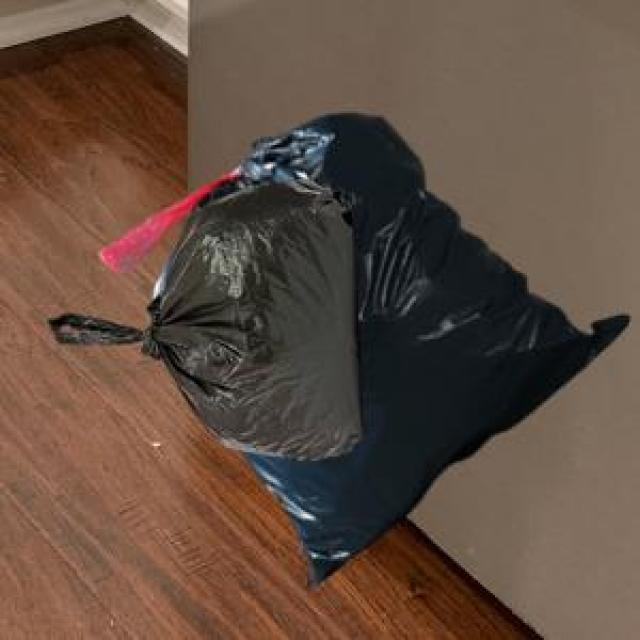Vinyl: (51, 112, 629, 582)
